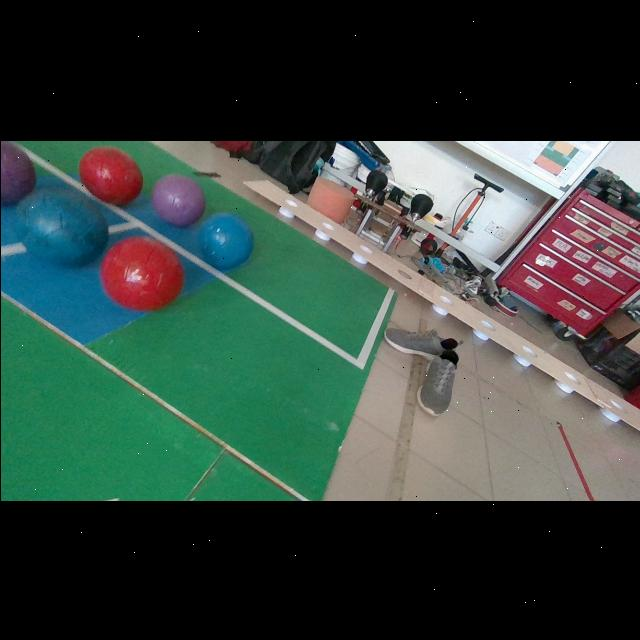B: (17, 187, 107, 265), (197, 212, 253, 268)
P: (150, 173, 205, 226), (0, 140, 35, 203)
R: (99, 236, 183, 309), (78, 145, 142, 205)
